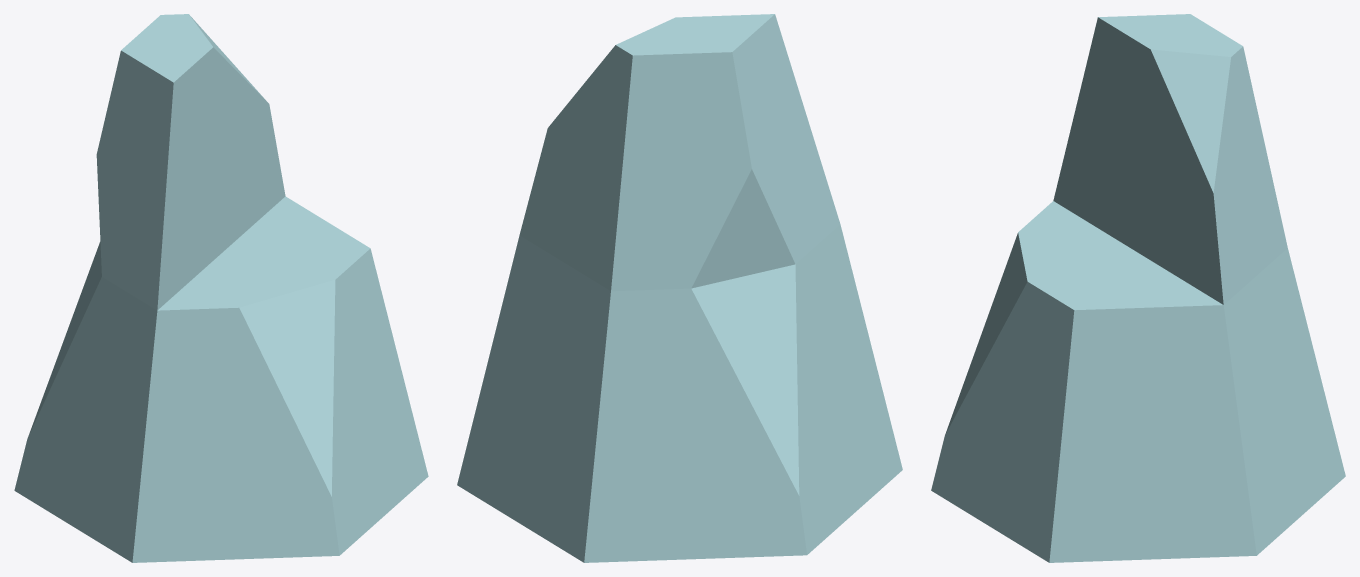
File: stone_tallJ.dae
The picture shows the model from 3 angles, left to right: view 1: azimuth 30°, elevation 25°; view 2: azimuth 150°, elevation 25°; view 3: azimuth 270°, elevation 25°; orthographic projection. The views are drawn at different scales.
Visible parts, largest first — view 1: stone_tallJ; view 2: stone_tallJ; view 3: stone_tallJ.
Boxes of the visible parts, x1,y1,x2,y2 form: stone_tallJ: [14, 14, 428, 562]; stone_tallJ: [457, 14, 902, 562]; stone_tallJ: [931, 14, 1345, 562].
Size of the model in its own units: 0.4879 by 0.62 by 0.5382.
